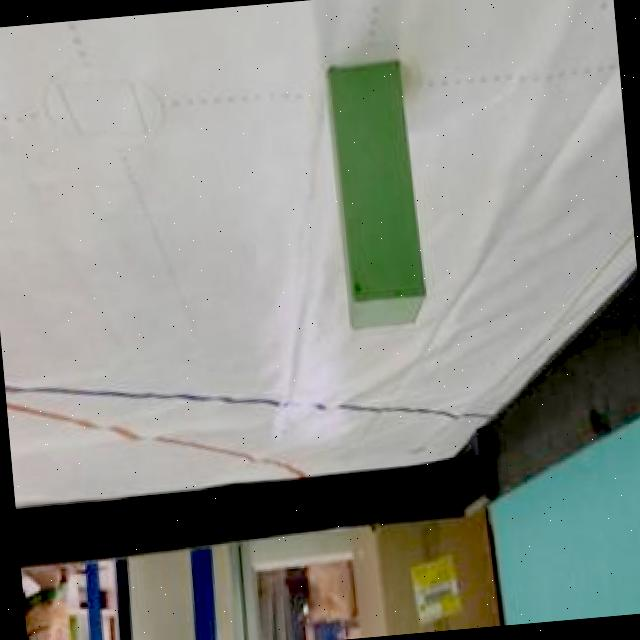greenbox: (326, 58, 428, 336)
